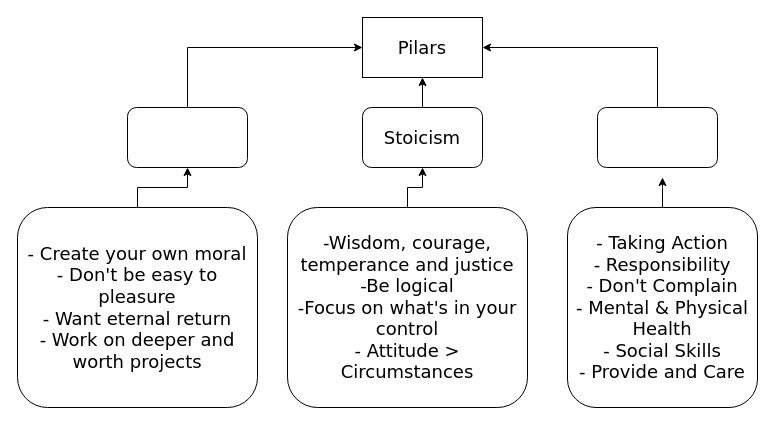
The diagram is 775 pixels wide and 425 high, and some of its shapes have lost their labels. Each missing label, with the centre of its shape:
Masculinity: point (657, 137)
Ultrahuman: point (187, 137)
